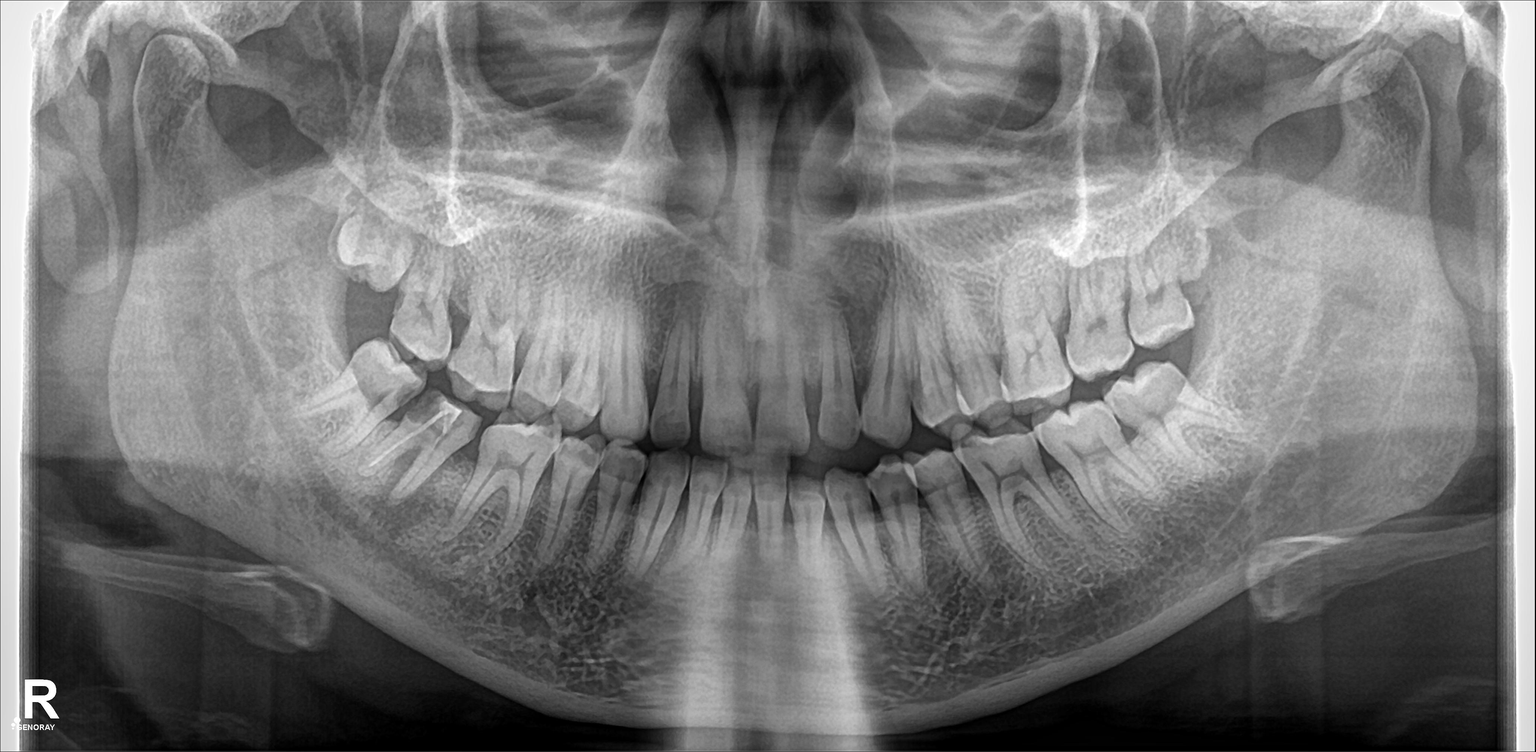Endodontically Treated Tooth: (385, 398, 459, 496)
Impacted Third Molar: (1119, 370, 1229, 463), (331, 342, 401, 423), (337, 212, 410, 283)
